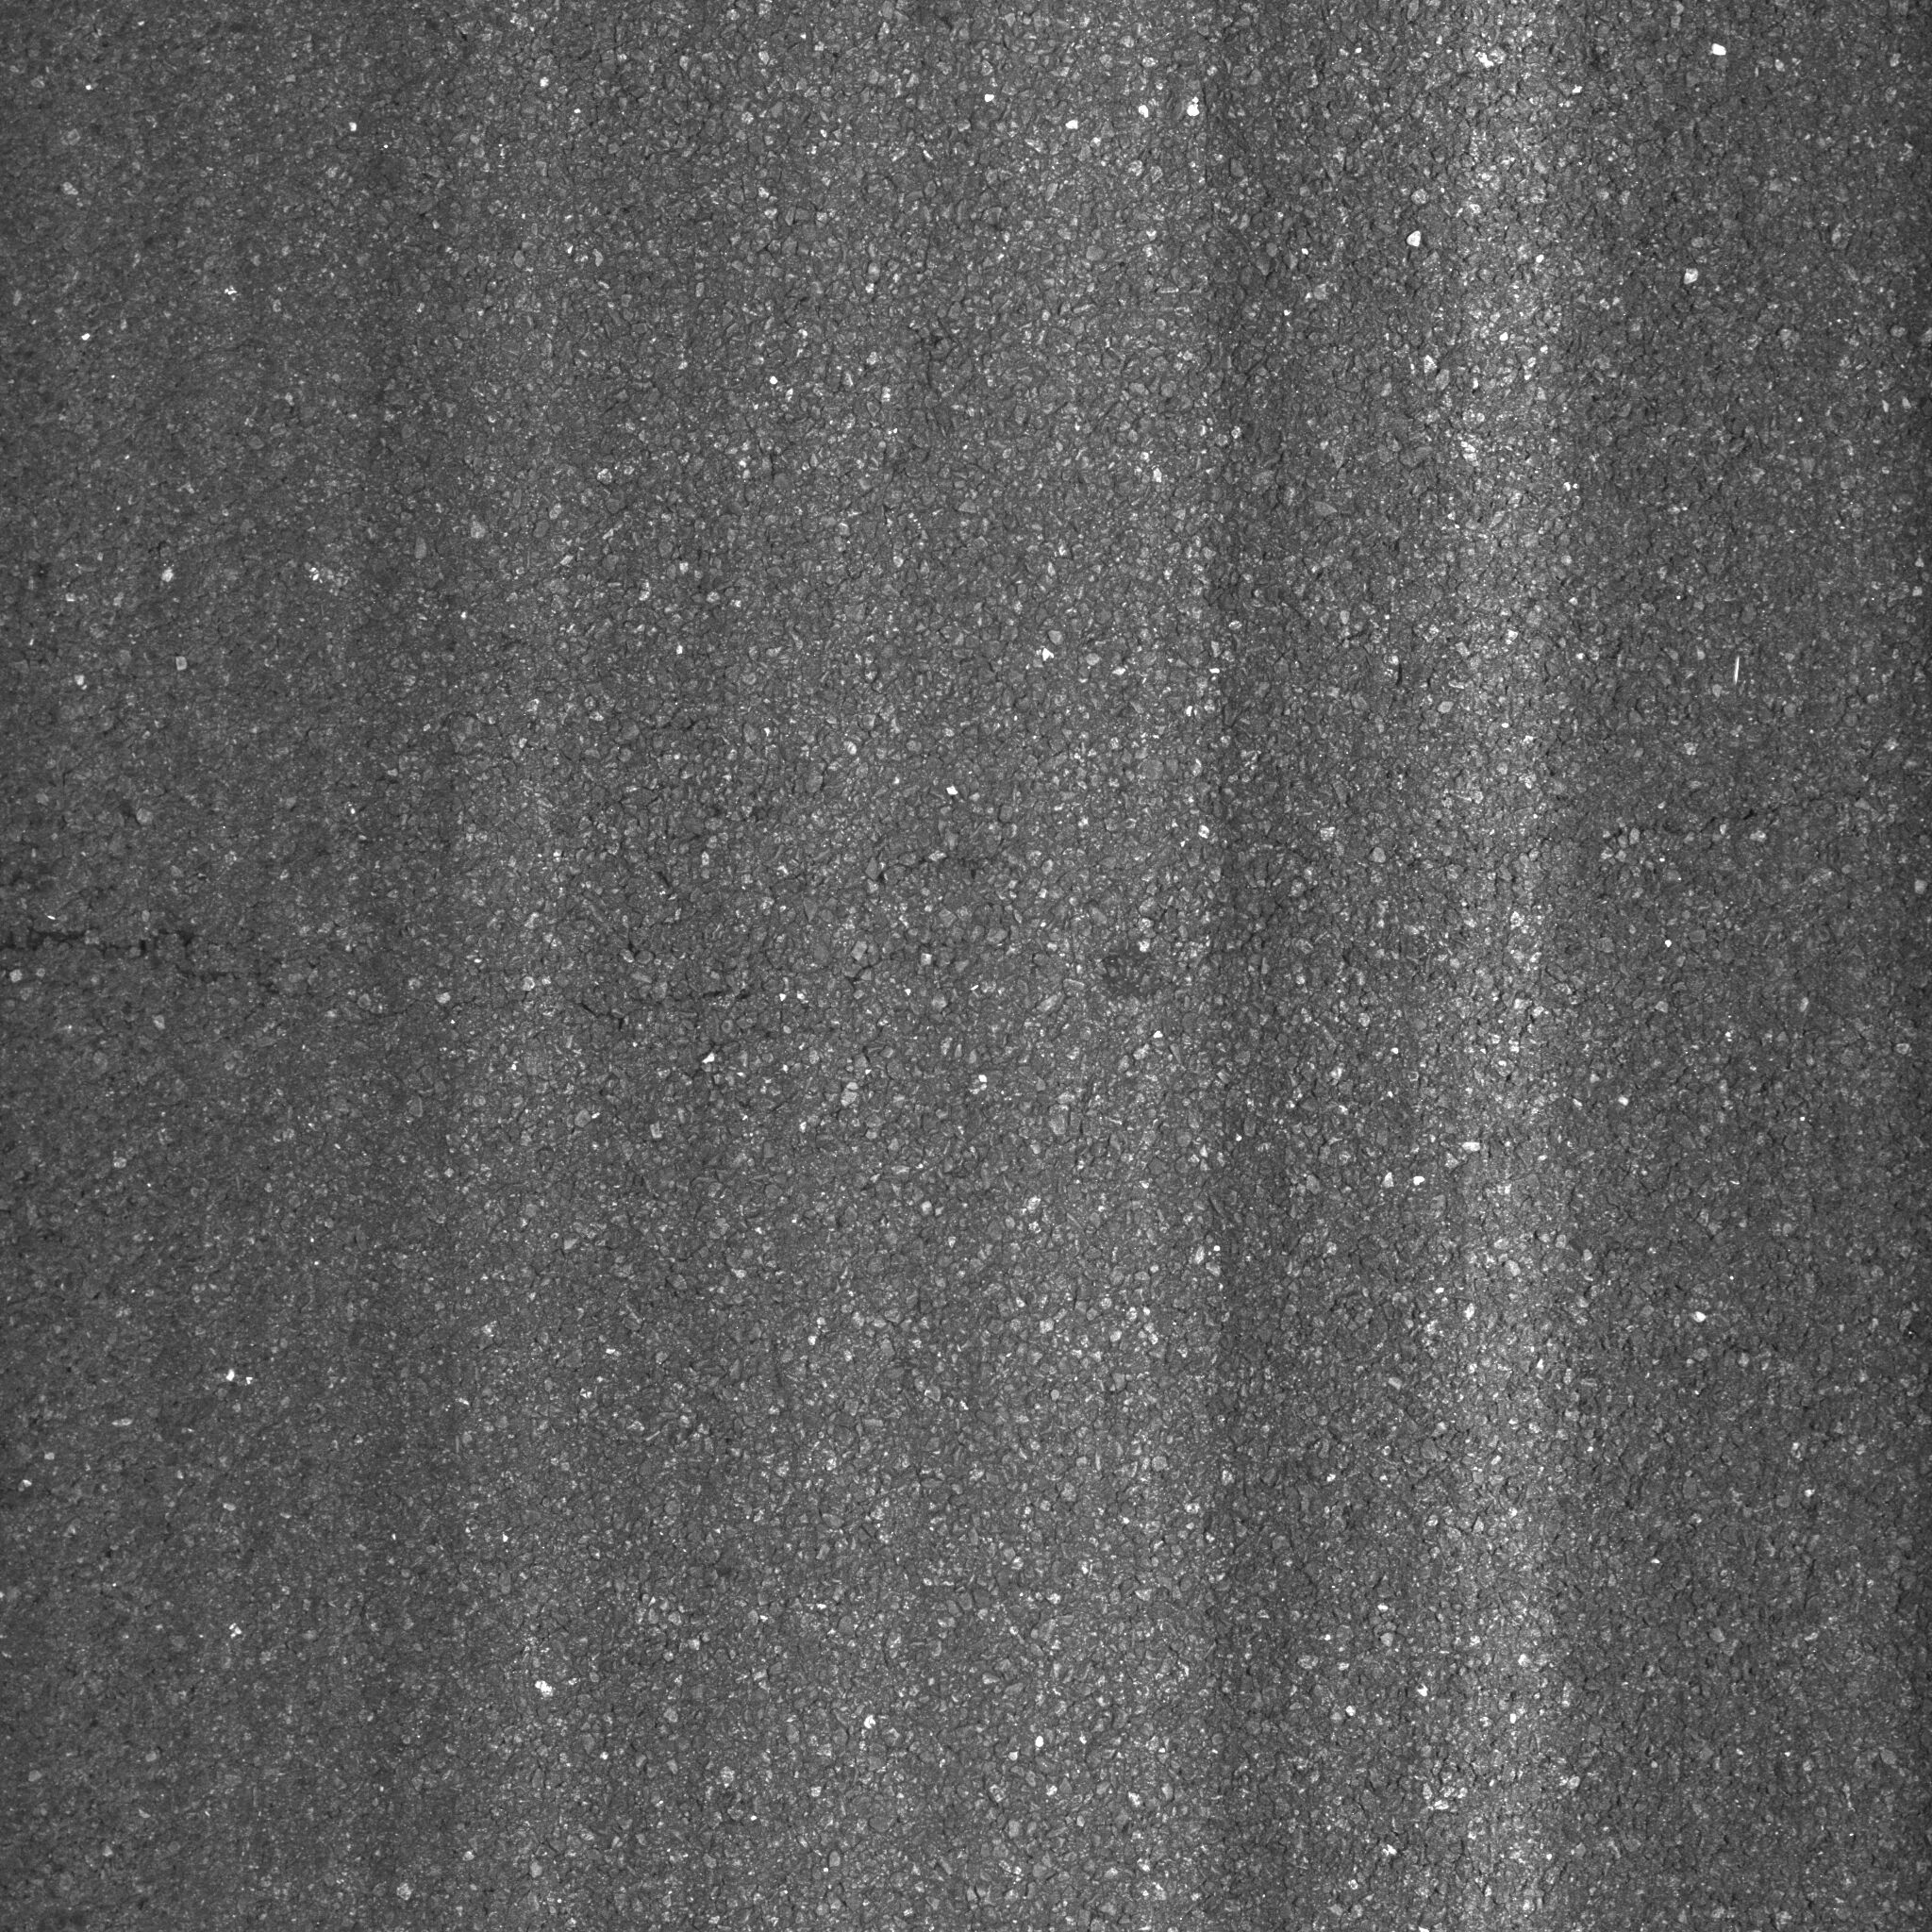transeverse: (9, 888, 789, 1044), (1580, 773, 1921, 867)
